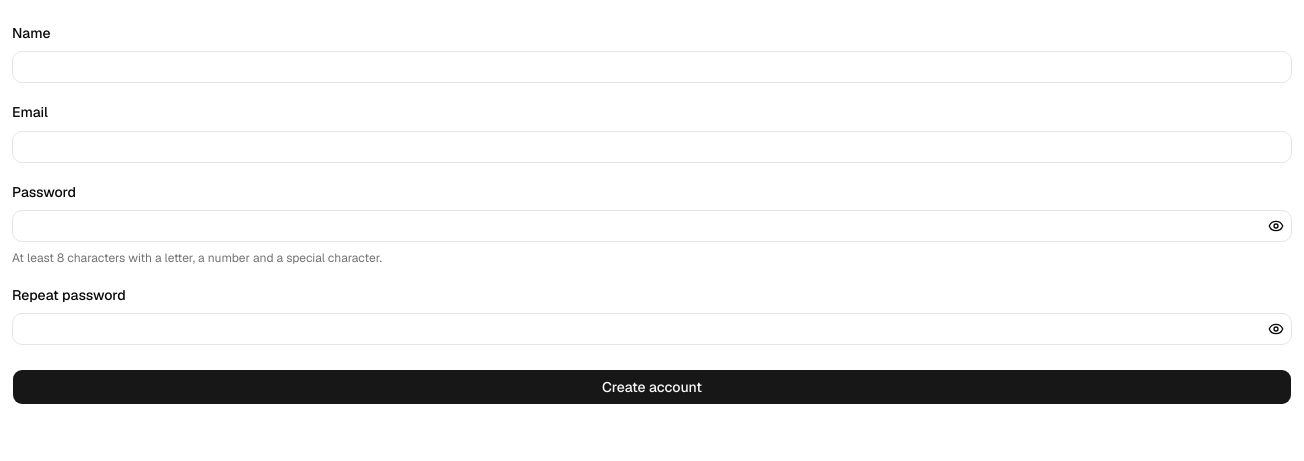
it: SignupForm › shows a safe message for status 429
The image size is (1304, 461).
Type "  Mostafa Elzohry " into the field labelled "Name" at (652, 67), box [12,51,1292,83]
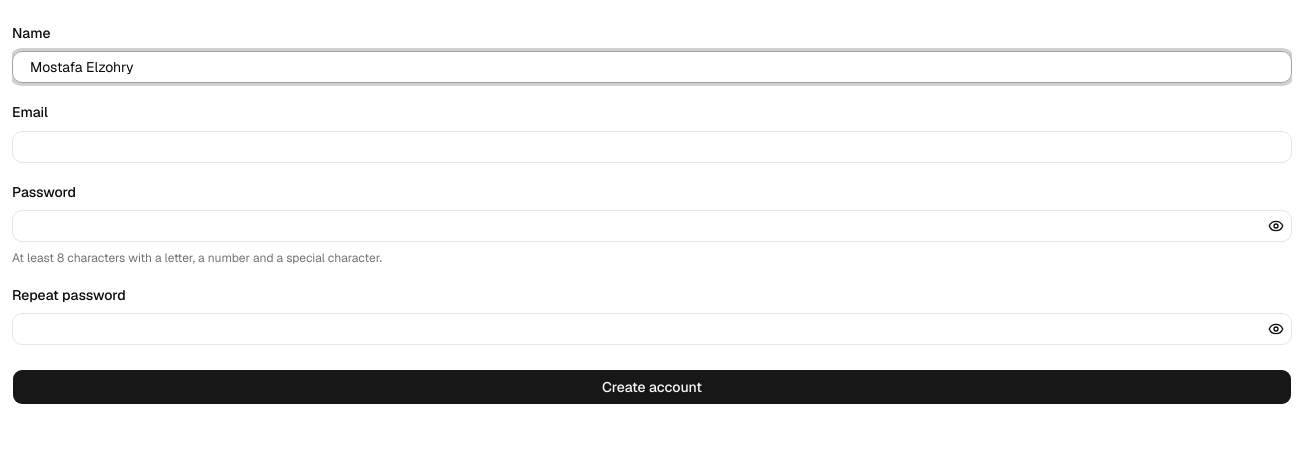
Type " Mostafa@Example.com " into the field labelled "Email" at (652, 146), box [12,130,1292,162]
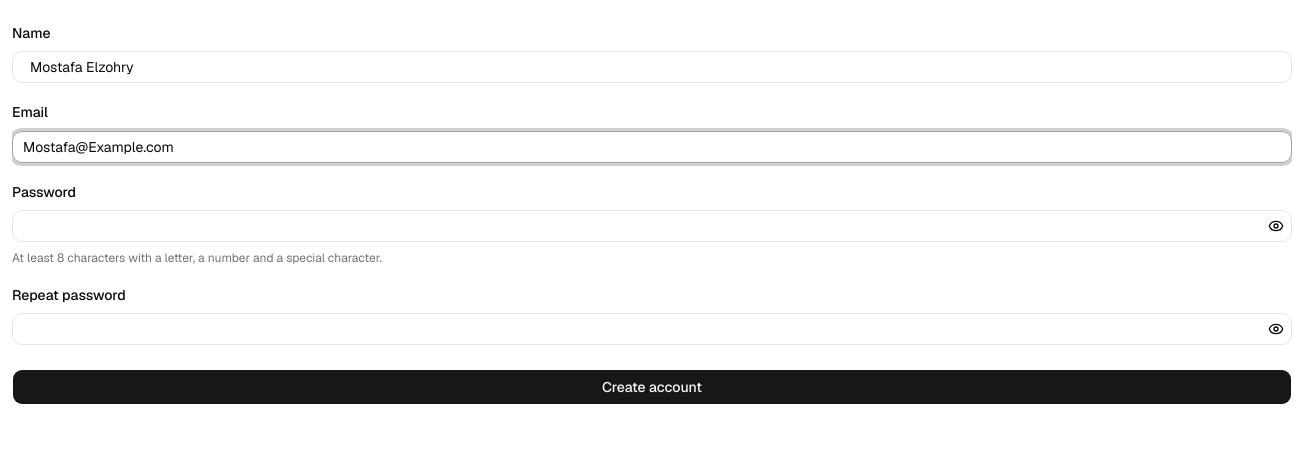
Type " Sup3r-secret! " into the password field labelled "Password" at (652, 226), box [12,210,1292,242]
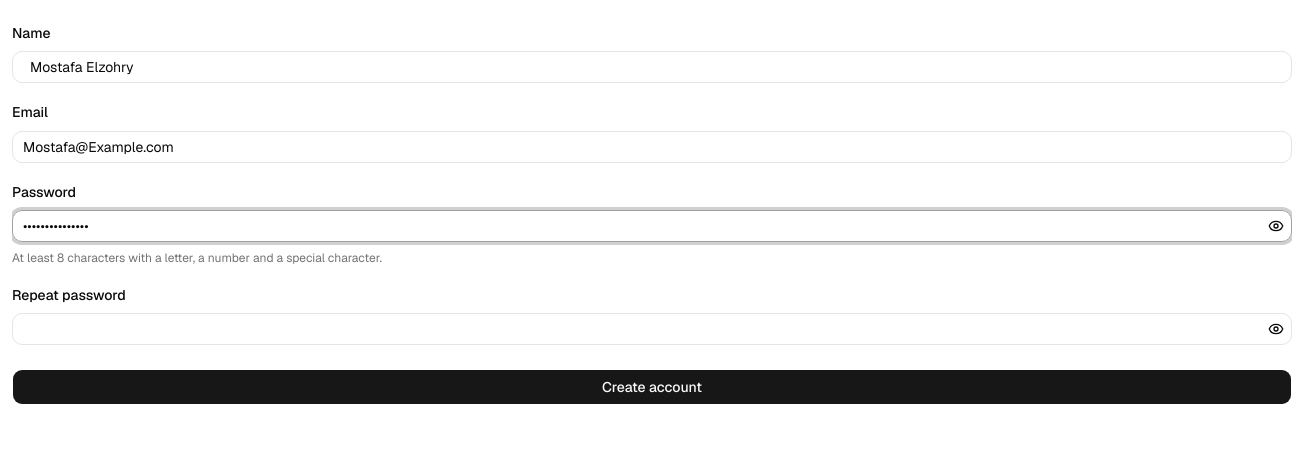
Type " Sup3r-secret! " into the password field labelled "Repeat password" at (652, 329), box [12,313,1292,345]
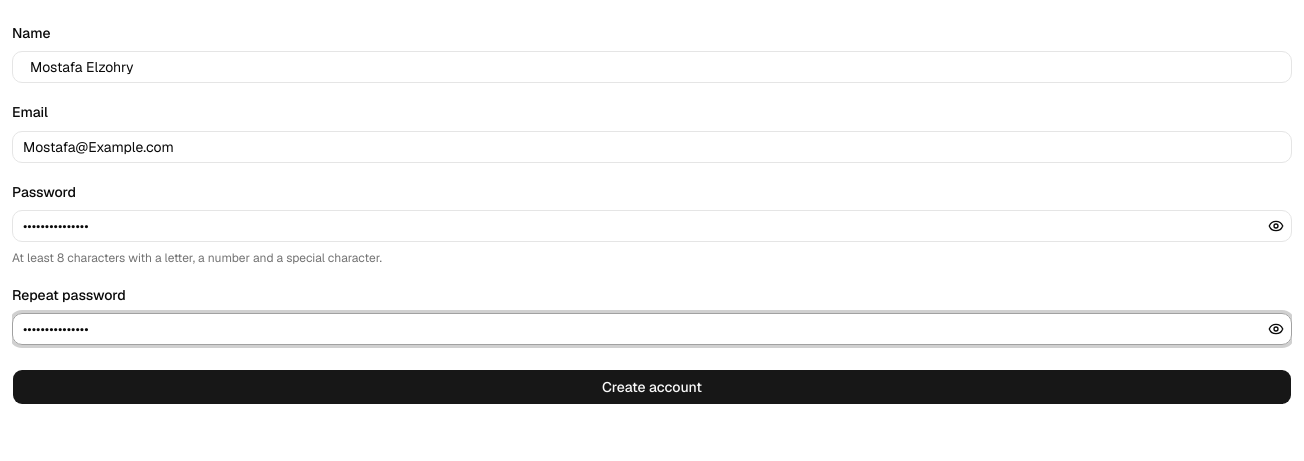
Click the button "Create account" at (652, 387), box [12,369,1292,405]
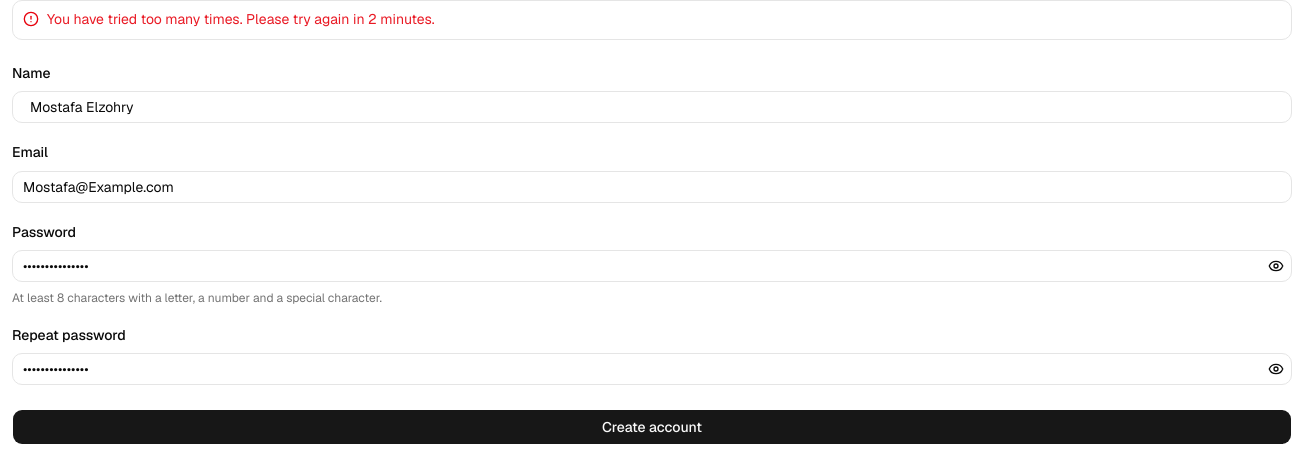
Now the text "try again in 2 minutes" is shown, box [47,10,435,28]
